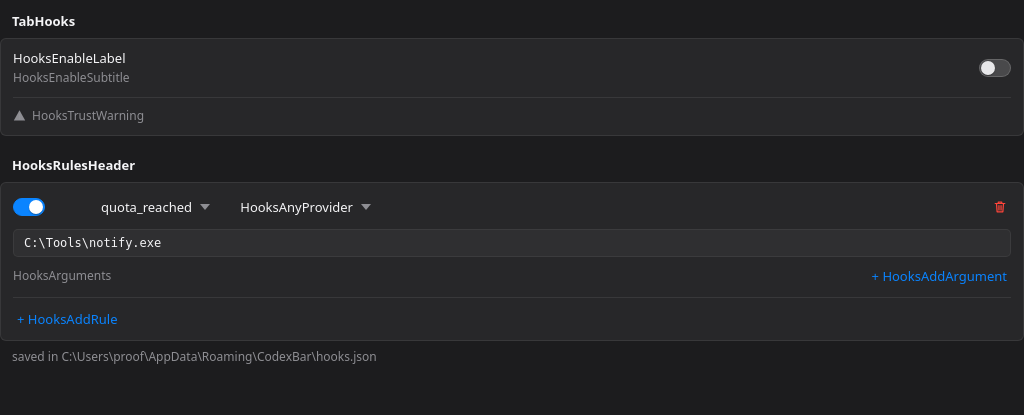
HooksTab › shows a save error and reloads what is on disk
The width and height of the screenshot is (1024, 415).
expect the text "HooksTrustWarning" is shown: met, box [32, 108, 144, 125]
Click the button "+ HooksAddRule".
click(67, 319)  # box [13, 308, 122, 330]
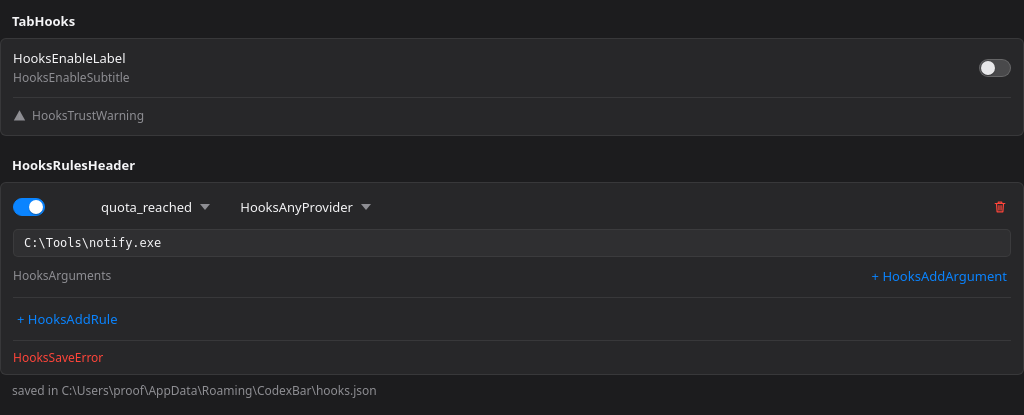
expect the number of elements with test id "hook-rule" is 1: met, box [13, 183, 1011, 297]
expect the text "HooksSaveError" is shown: met, box [13, 340, 1011, 374]
